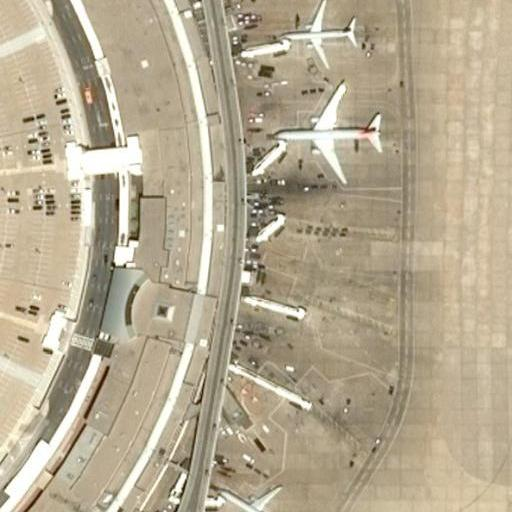Aircraft: (264, 82, 393, 178), (277, 0, 369, 67), (214, 476, 307, 512)
